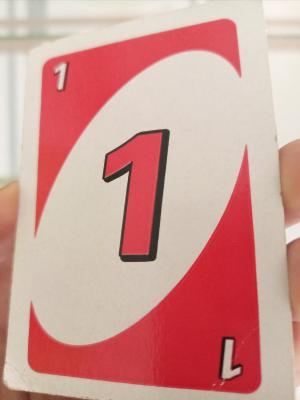num_1: (211, 328, 252, 390), (46, 61, 83, 93)
